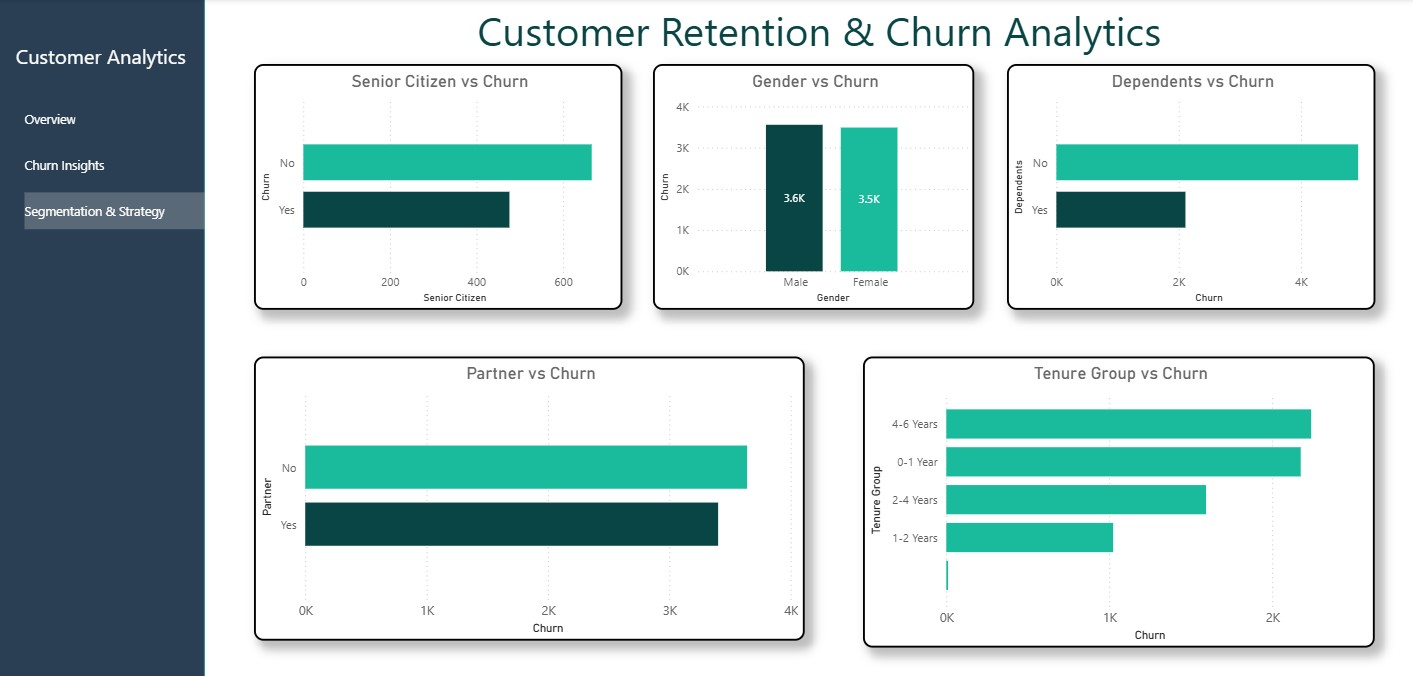

The page's visual inventory and layout, read from the dashboard file:
{"tool":"powerbi","page":{"name":"Segmentation & Strategy","canvas":[1500,720],"ordinal":2},"visuals":[{"type":"clusteredBarChart","title":"Senior Citizen vs Churn","fields":{"Y":["Sum(cleaned_churn_data.SeniorCitizen)"],"Category":["cleaned_churn_data.Churn"]},"box":[270,70,390.4,260.8],"z":0},{"type":"columnChart","title":"Gender vs Churn","fields":{"Category":["cleaned_churn_data.gender"],"Y":["CountNonNull(cleaned_churn_data.Churn)"]},"box":[694,70,340.7,260.8],"z":1000},{"type":"barChart","title":"Dependents vs Churn","fields":{"Category":["cleaned_churn_data.Dependents"],"Y":["CountNonNull(cleaned_churn_data.Churn)"]},"box":[1068.2,70,390.4,260.8],"z":2000},{"type":"barChart","title":"Partner vs Churn","fields":{"Category":["cleaned_churn_data.Partner"],"Y":["CountNonNull(cleaned_churn_data.Churn)"]},"box":[269.7,379.7,583.8,301.7],"z":3000},{"type":"clusteredBarChart","title":"Tenure Group vs Churn","fields":{"Category":["cleaned_churn_data.TenureGroup"],"Y":["CountNonNull(cleaned_churn_data.Churn)"]},"box":[915.6,379.7,543,308.8],"z":4000},{"type":"shape","box":[0,0,218.3,720.4],"z":5000},{"type":"pageNavigator","box":[26.6,108.2,191.6,138.4],"z":6000},{"type":"textbox","box":[495.1,0,750.6,72.8],"z":7000},{"type":"textbox","box":[12.4,40.8,244.9,55],"z":8000}]}

Visuals, with their boxes on the page's 1500x720 design canvas (x1, y1, x2, y2). These are canvas units, not pixel positions in the 1413x676 screenshot, which may show the page scaled, cropped or inside an application window:
"Senior Citizen vs Churn" clusteredBarChart: <bbox>270, 70, 660, 331</bbox>
"Gender vs Churn" columnChart: <bbox>694, 70, 1035, 331</bbox>
"Dependents vs Churn" barChart: <bbox>1068, 70, 1459, 331</bbox>
"Partner vs Churn" barChart: <bbox>270, 380, 854, 681</bbox>
"Tenure Group vs Churn" clusteredBarChart: <bbox>916, 380, 1459, 688</bbox>
shape: <bbox>0, 0, 218, 720</bbox>
pageNavigator: <bbox>27, 108, 218, 247</bbox>
textbox: <bbox>495, 0, 1246, 73</bbox>
textbox: <bbox>12, 41, 257, 96</bbox>
